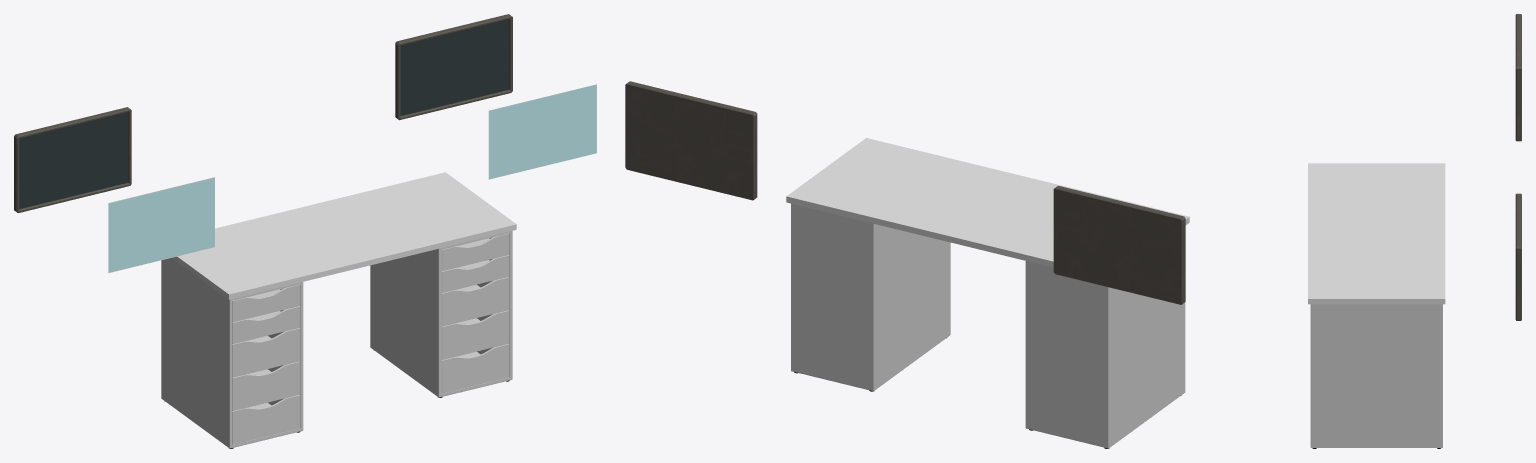
The model's file is ikea_desk.glb.
3 renders of one model, left to right at view 1: azimuth 30°, elevation 25°; view 2: azimuth 150°, elevation 25°; view 3: azimuth 270°, elevation 25°, orthographic. The views are drawn at different scales.
Visible parts, largest first — view 1: Drawer, Tabletop, Solid 25, Blender Bros Sci-Fi UI Pack_009, Blender Bros Sci-Fi UI Pack_018; view 2: Drawer, Solid 25, Tabletop; view 3: Tabletop, Drawer, Solid 25.
Part boxes in pixels (x1=…): Drawer: x1=161, y1=231, x2=512, y2=448; Tabletop: x1=172, y1=172, x2=516, y2=299; Solid 25: x1=14, y1=14, x2=512, y2=212; Blender Bros Sci-Fi UI Pack_009: x1=488, y1=84, x2=596, y2=179; Blender Bros Sci-Fi UI Pack_018: x1=108, y1=177, x2=214, y2=273; Drawer: x1=791, y1=203, x2=1185, y2=448; Solid 25: x1=625, y1=81, x2=1185, y2=304; Tabletop: x1=786, y1=138, x2=1189, y2=267; Tabletop: x1=1308, y1=163, x2=1445, y2=304; Drawer: x1=1310, y1=304, x2=1442, y2=448; Solid 25: x1=1515, y1=14, x2=1521, y2=320.
Bounding box in the file's own units: 2.42 × 1.22 × 0.934.
Materials: 6 (3 with a texture image).
